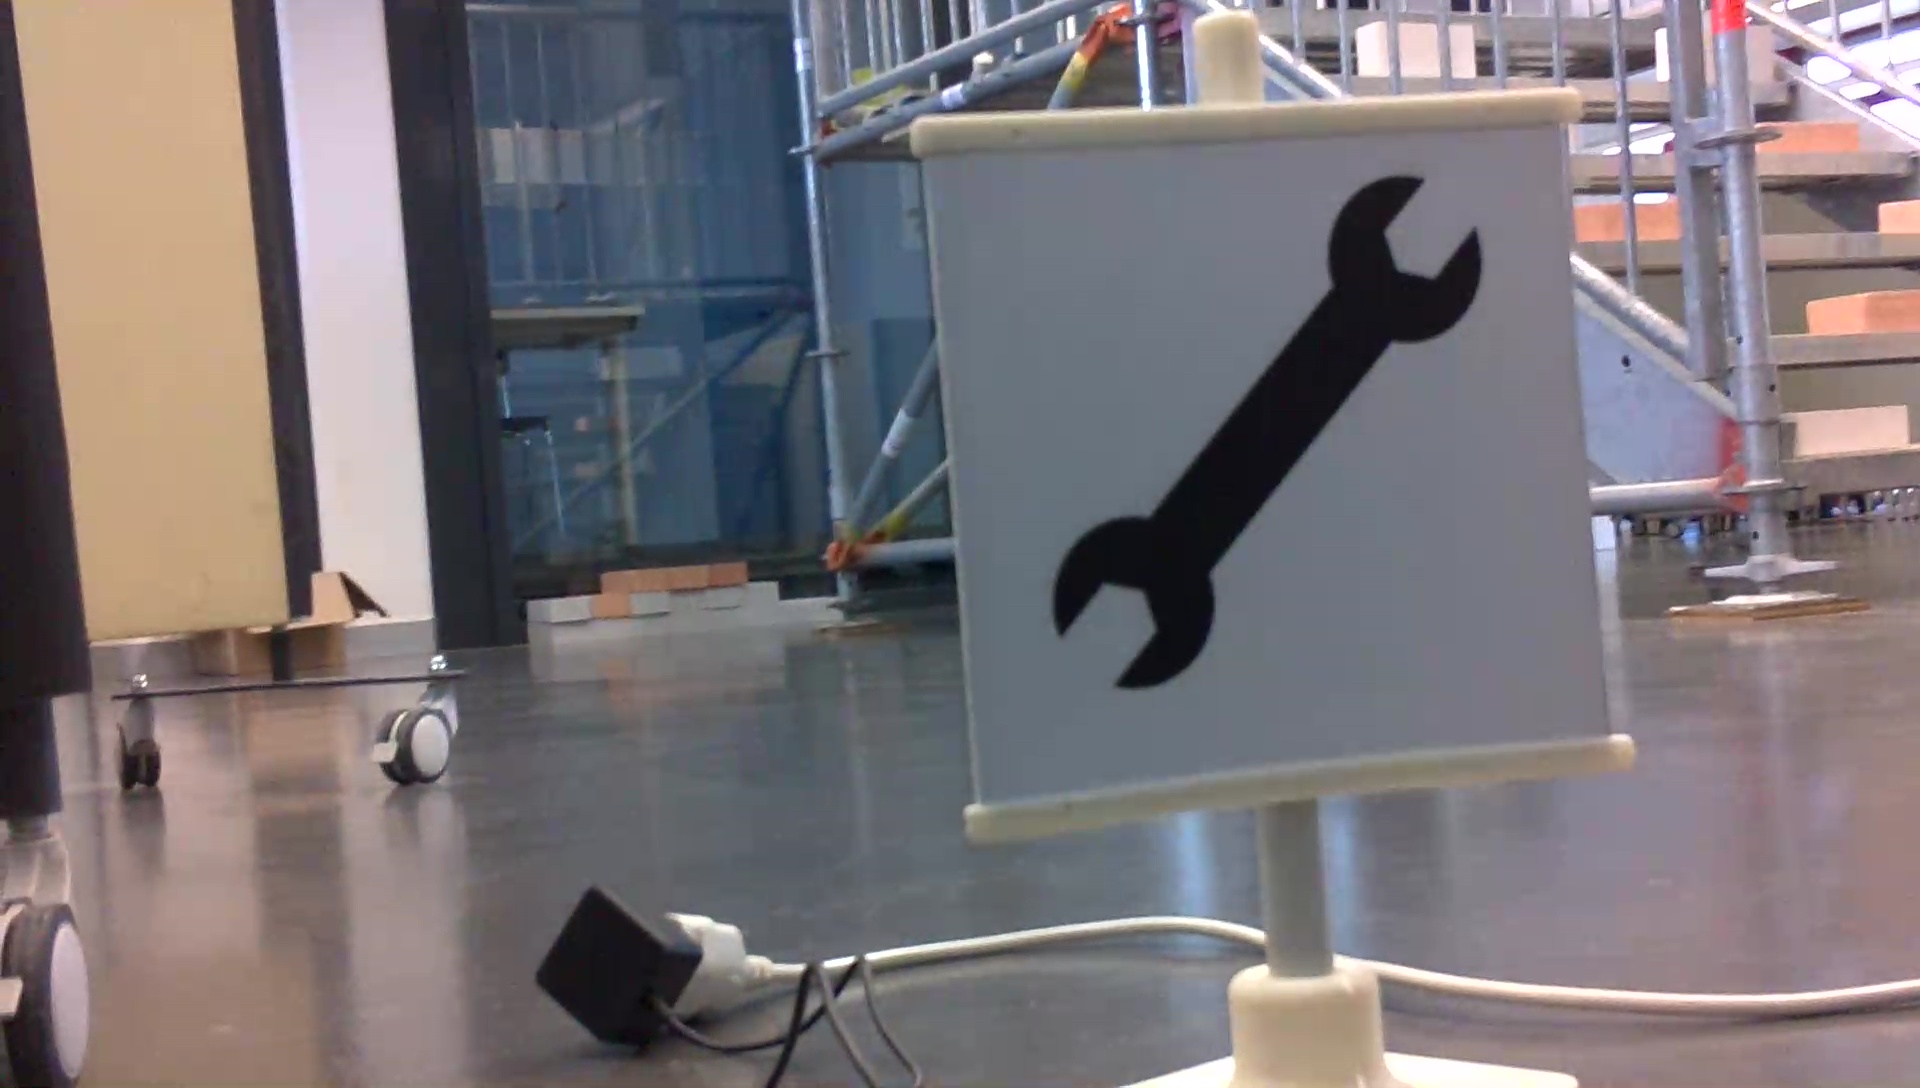brick: (1807, 290, 1920, 332), (1797, 410, 1904, 448), (1763, 123, 1855, 150), (1879, 203, 1917, 233)
wrench: (1033, 167, 1487, 695)
